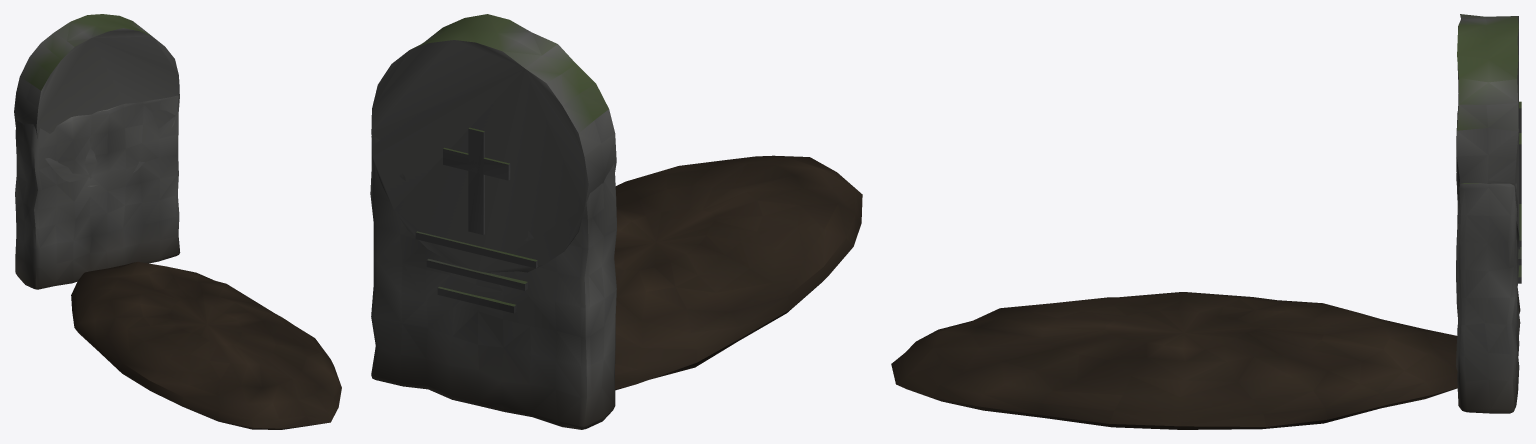
Rendered from Gravestone.glb.
3 views of the same model, side by side, from view 1: azimuth 30°, elevation 25°; view 2: azimuth 150°, elevation 25°; view 3: azimuth 270°, elevation 25° (orthographic). The views are drawn at different scales.
Visible parts, largest first — view 1: Gravestone_stone, Gravestone_dirt; view 2: Gravestone_stone, Gravestone_dirt, Gravestone_stone_dark; view 3: Gravestone_dirt, Gravestone_stone.
Part boxes in pixels (x1,y1,x2,y2): Gravestone_stone: (14,14,180,289); Gravestone_dirt: (71,262,341,429); Gravestone_stone: (370,14,616,429); Gravestone_dirt: (614,155,862,390); Gravestone_stone_dark: (415,127,538,313); Gravestone_dirt: (891,292,1457,429); Gravestone_stone: (1456,14,1520,413).
Size of the model in its own units: 2.41 by 3.31 by 5.38.
